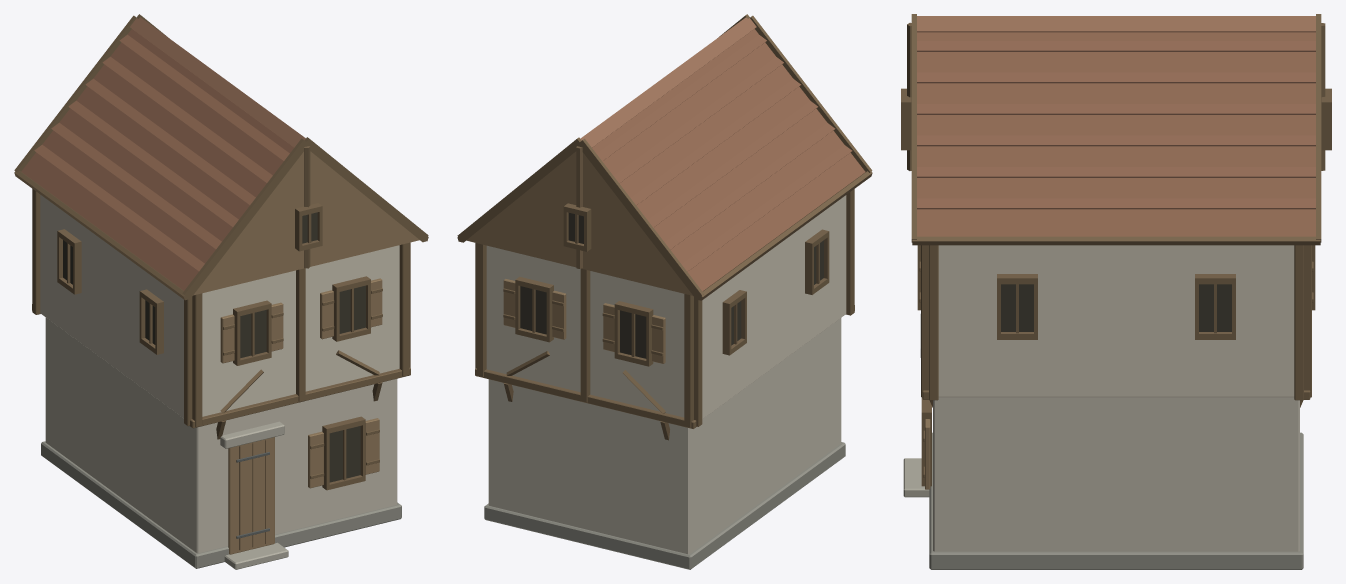
Rendered from townhouse.glb.
3 renders of one model, left to right at view 1: azimuth 30°, elevation 25°; view 2: azimuth 150°, elevation 25°; view 3: azimuth 270°, elevation 25°, orthographic. The views are drawn at different scales.
Visible parts, largest first — view 1: townhouse_fort_roof, townhouse_fort_plaster, townhouse_settlement_lime, townhouse_oak_dark, townhouse_oak, townhouse_fort_stone_dark, townhouse_black, townhouse_fort_roof_light, townhouse_fort_stone_light; view 2: townhouse_fort_roof, townhouse_fort_plaster, townhouse_settlement_lime, townhouse_oak_dark, townhouse_fort_stone_dark, townhouse_fort_roof_light, townhouse_black, townhouse_oak; view 3: townhouse_fort_roof, townhouse_fort_plaster, townhouse_settlement_lime, townhouse_oak_dark, townhouse_fort_stone_dark, townhouse_fort_roof_light, townhouse_black, townhouse_fort_stone_light.
Boxes of the visible parts, box(x1,y1,x2,y2) form: townhouse_fort_roof: box(21, 29, 419, 295); townhouse_fort_plaster: box(45, 317, 397, 553); townhouse_settlement_lime: box(40, 195, 399, 418); townhouse_oak_dark: box(14, 14, 428, 550); townhouse_oak: box(220, 278, 382, 554); townhouse_fort_stone_dark: box(41, 441, 401, 568); townhouse_black: box(63, 212, 365, 482); townhouse_fort_roof_light: box(130, 17, 305, 147); townhouse_fort_stone_light: box(220, 421, 288, 569); townhouse_fort_roof: box(466, 29, 865, 295); townhouse_fort_plaster: box(488, 318, 841, 554); townhouse_settlement_lime: box(486, 195, 846, 418); townhouse_oak_dark: box(457, 14, 872, 440); townhouse_fort_stone_dark: box(484, 442, 845, 569); townhouse_fort_roof_light: box(580, 17, 756, 147); townhouse_black: box(520, 213, 823, 358); townhouse_oak: box(503, 279, 665, 363); townhouse_fort_roof: box(917, 32, 1315, 236); townhouse_fort_plaster: box(933, 397, 1299, 551); townhouse_settlement_lime: box(938, 245, 1294, 397); townhouse_oak_dark: box(901, 14, 1331, 486); townhouse_fort_stone_dark: box(929, 432, 1303, 569); townhouse_fort_roof_light: box(917, 16, 1315, 32); townhouse_black: box(1001, 284, 1231, 331); townhouse_fort_stone_light: box(903, 314, 929, 497).
Size of the model in its own units: 4.64 by 7.43 by 5.87.
